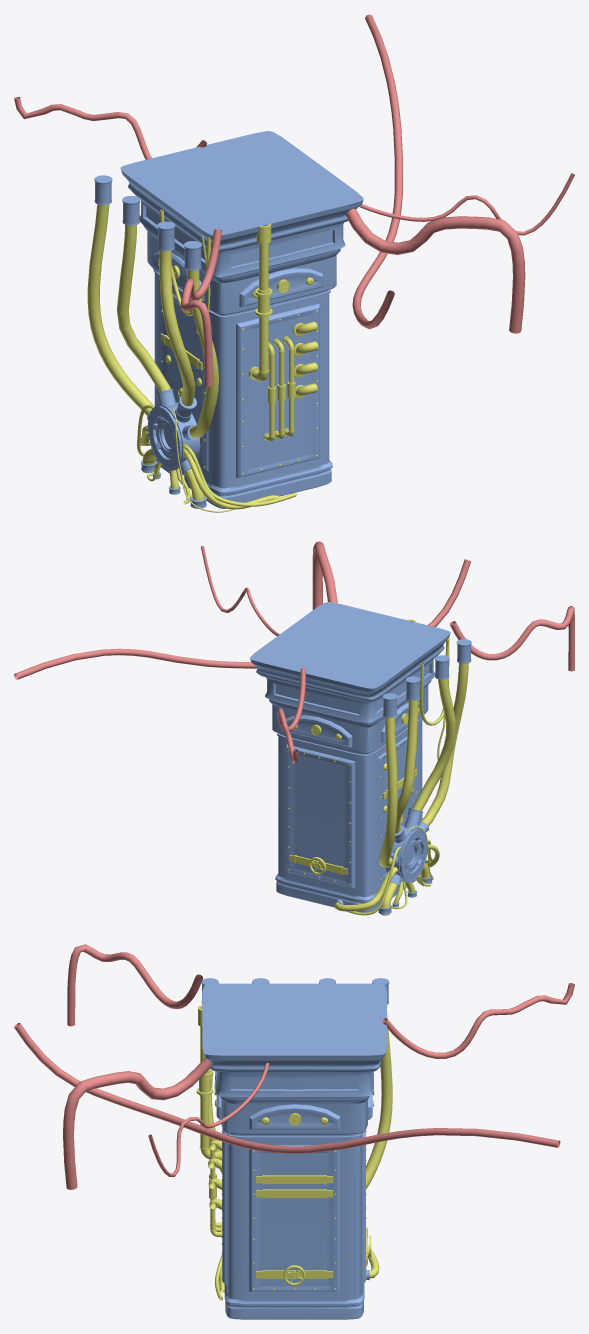
The model's file is Generator.fbx.
3 views of the same model, one above another, from view 1: azimuth 30°, elevation 25°; view 2: azimuth 150°, elevation 25°; view 3: azimuth 270°, elevation 25° (orthographic). The views are drawn at different scales.
Visible parts, largest first — view 1: Generator; view 2: Generator; view 3: Generator.
Part boxes in pixels (bbox=[...]): Generator: bbox=[14, 14, 574, 512]; Generator: bbox=[14, 541, 574, 915]; Generator: bbox=[14, 944, 574, 1319].
Size of the model in its own units: 1197 by 795 by 1417.
